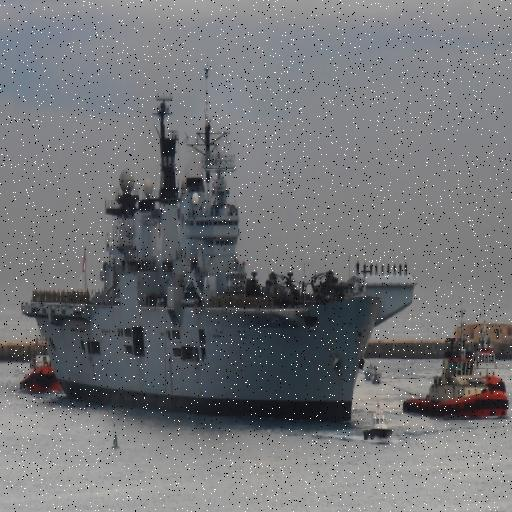Portanaves: (17, 56, 418, 430)
